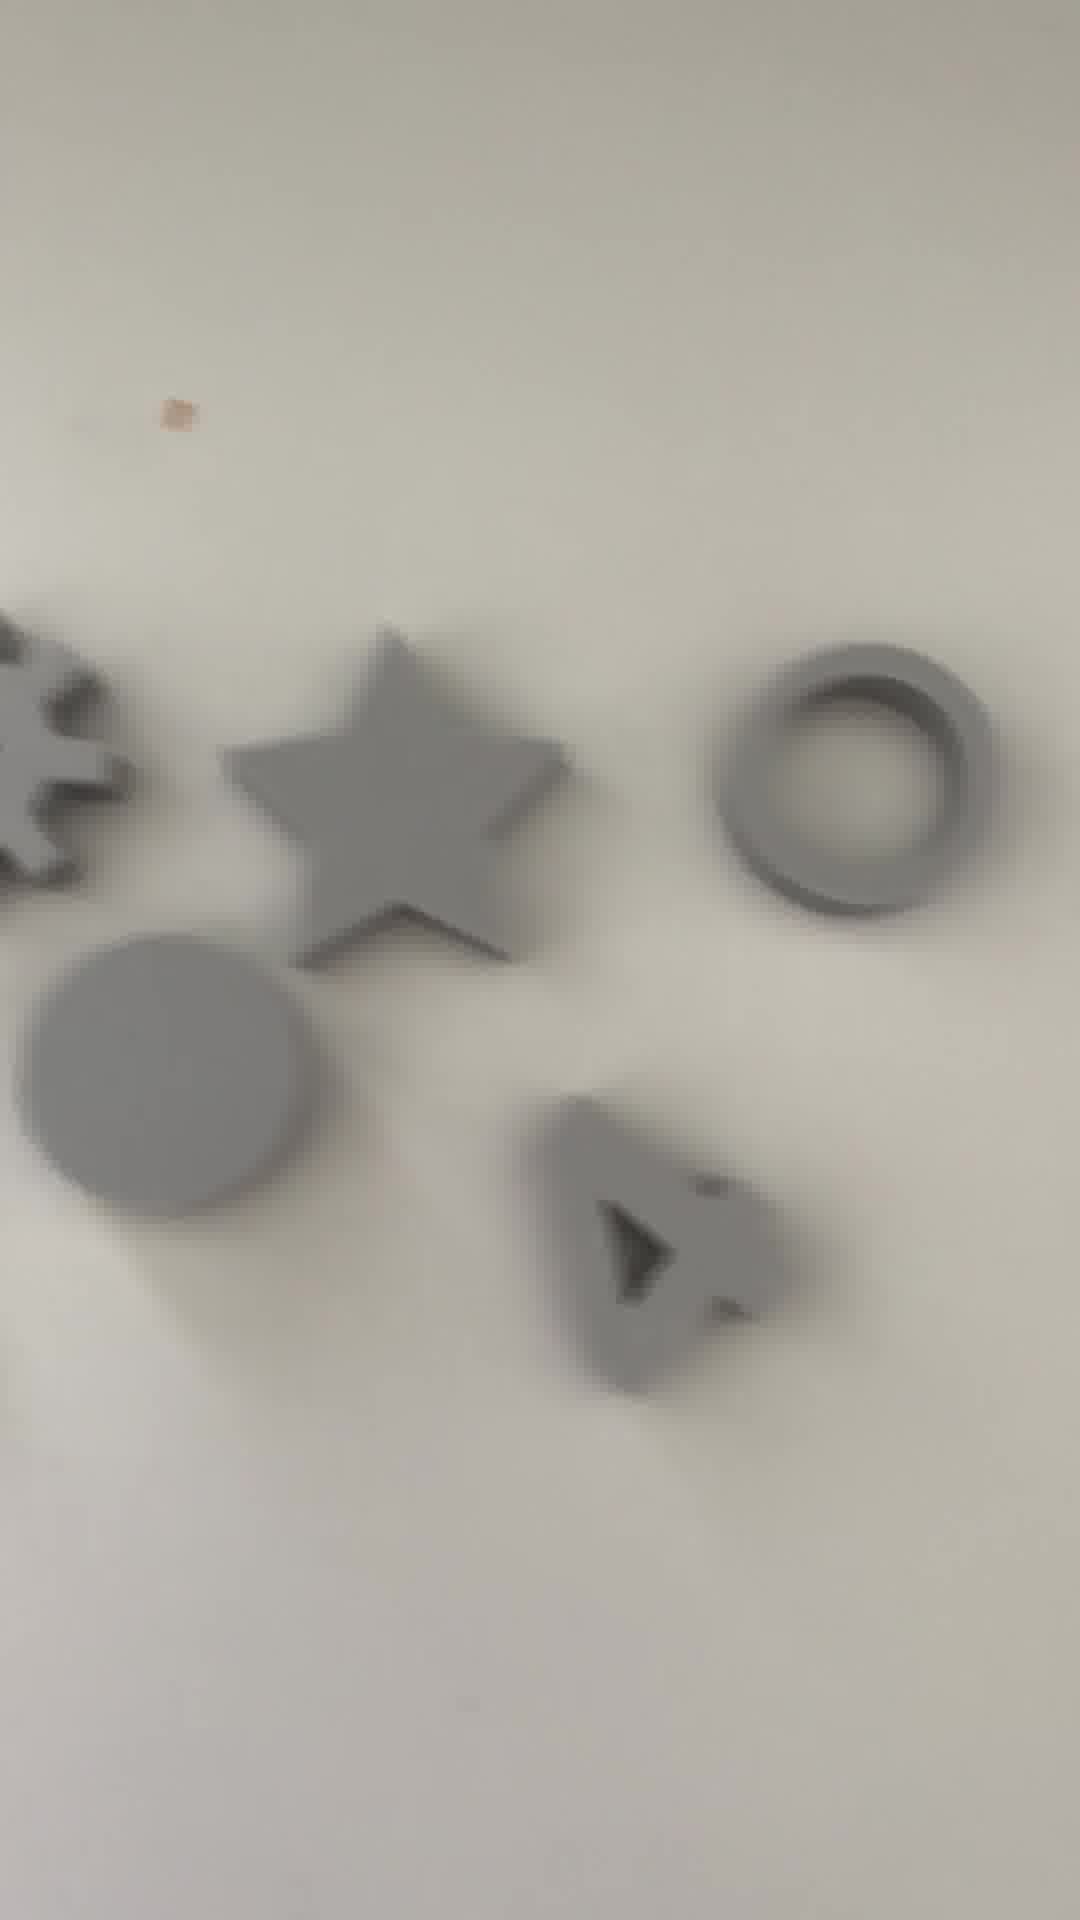Gray circle: (22, 938, 347, 1238)
Gray four: (524, 1075, 823, 1410)
Gray gear: (1, 608, 156, 903)
Gray ring: (705, 646, 1007, 916)
Gray star: (215, 626, 574, 997)
